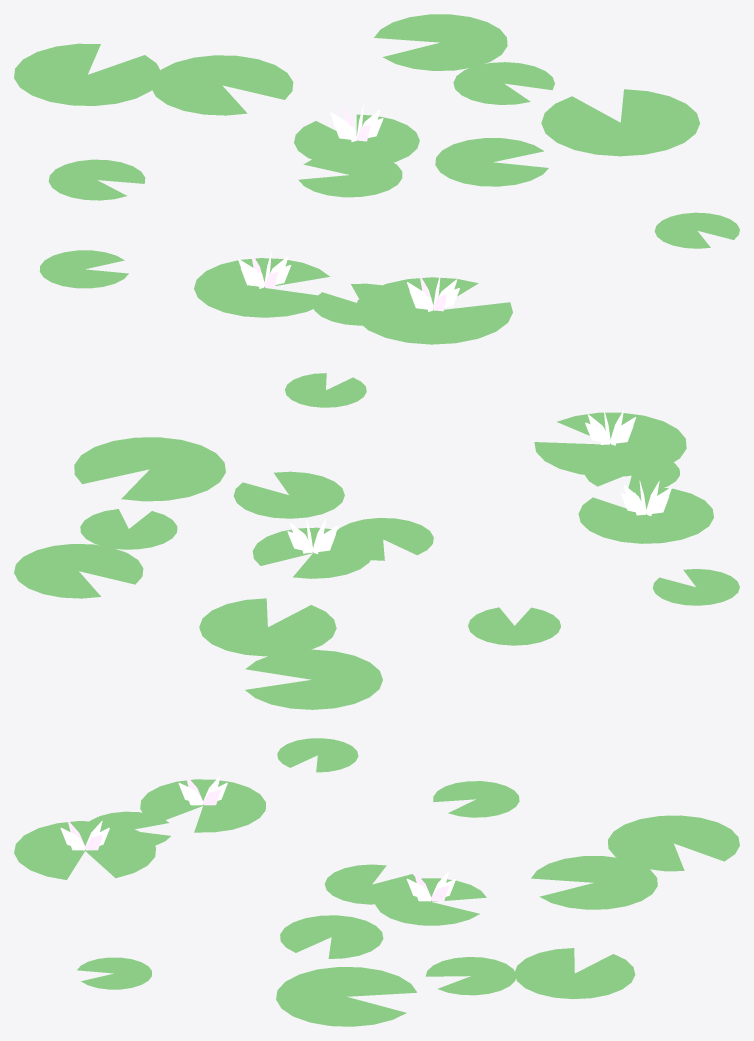
Rendered from lilypads.glb.
The picture shows the model from 3 angles, top to bottom: view 1: azimuth 30°, elevation 25°; view 2: azimuth 150°, elevation 25°; view 3: azimuth 270°, elevation 25°; orthographic projection. The views are drawn at different scales.
Visible parts, largest first — view 1: lilypads; view 2: lilypads; view 3: lilypads.
Boxes of the visible parts, x1=… form: lilypads: x1=14, y1=14, x2=739, y2=344; lilypads: x1=14, y1=373, x2=739, y2=709; lilypads: x1=14, y1=738, x2=739, y2=1026.
Size of the model in its own units: 6.18 by 0.2332 by 6.57.
